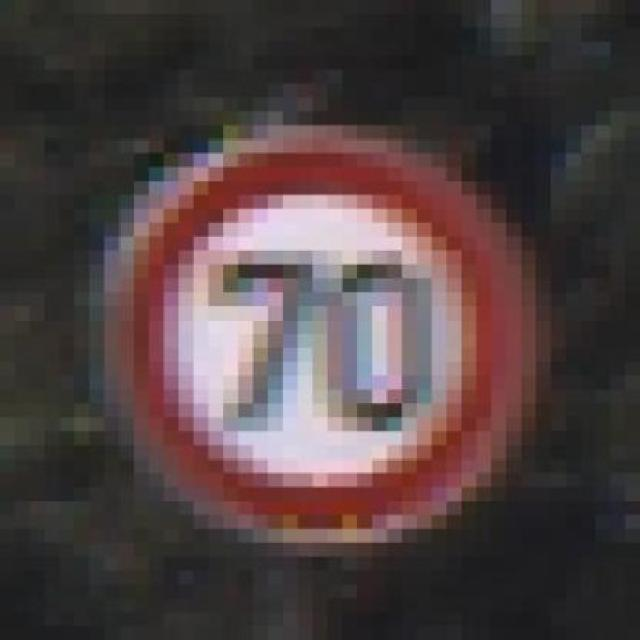forb_speed_over_70: (125, 134, 519, 531)
